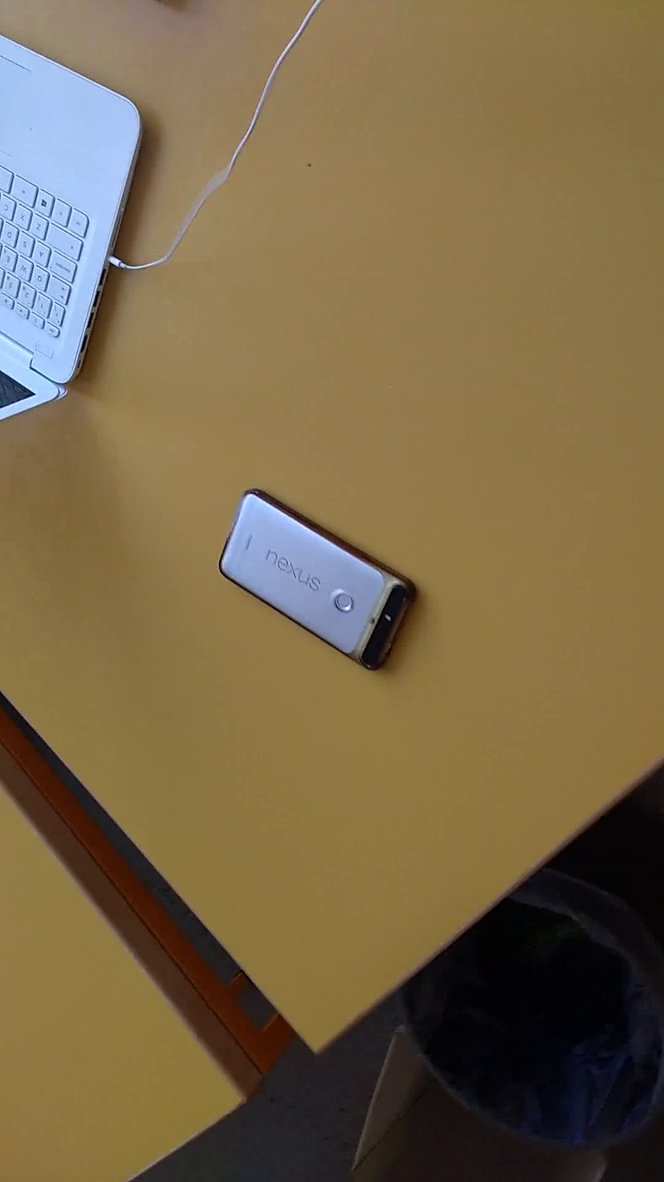phone: (203, 481, 441, 698)
